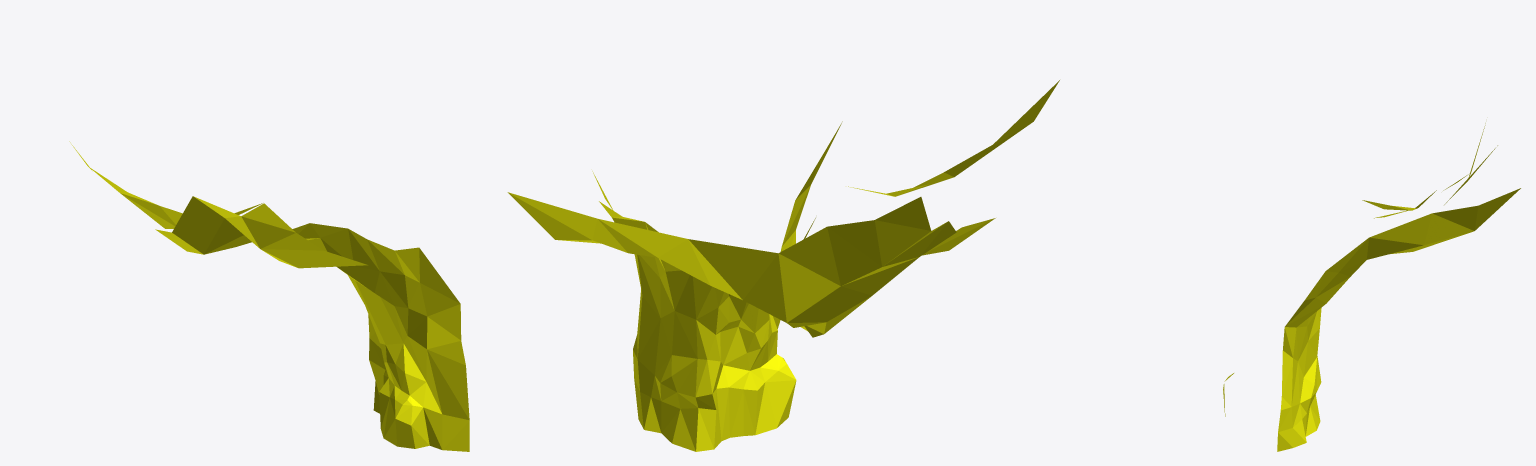
Rendered from cliff_coner_01.glb.
3 views of the same model, side by side, from view 1: azimuth 30°, elevation 25°; view 2: azimuth 150°, elevation 25°; view 3: azimuth 270°, elevation 25° (orthographic). The views are drawn at different scales.
Visible parts, largest first — view 1: cliff_coner_01; view 2: cliff_coner_01; view 3: cliff_coner_01.
Boxes of the visible parts, <box> form: cliff_coner_01: <box>69,141,469,451</box>; cliff_coner_01: <box>507,80,1059,451</box>; cliff_coner_01: <box>1223,123,1520,451</box>.
Bounding box in the file's own units: 99.55 × 90.83 × 110.
1 material, 1 textured.
